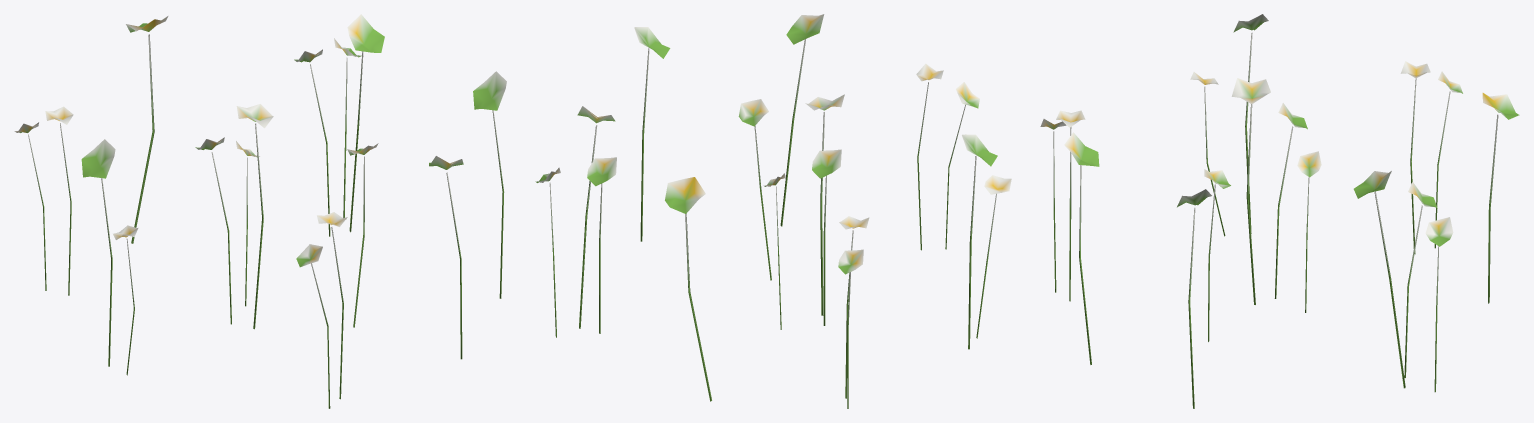
The model's file is margarida_bq.glb.
3 views of the same model, side by side, from view 1: azimuth 30°, elevation 25°; view 2: azimuth 150°, elevation 25°; view 3: azimuth 270°, elevation 25° (orthographic). The views are drawn at different scales.
Parts seen in each view (by area): view 1: margarida_bq; view 2: margarida_bq; view 3: margarida_bq.
Part boxes in pixels (<box>): margarida_bq: <box>14,14,506,408</box>; margarida_bq: <box>535,14,1011,408</box>; margarida_bq: <box>1040,14,1519,408</box>.
Size of the model in its own units: 18.36 by 10 by 19.62.
Materials: 1 (1 with a texture image).
